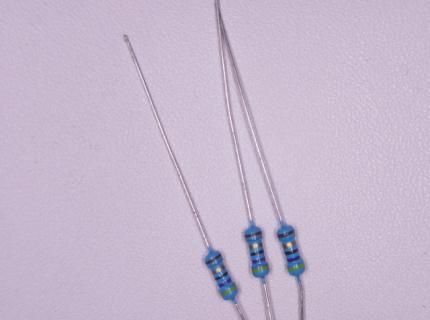Black band: (215, 272, 228, 281), (285, 249, 299, 255), (251, 250, 264, 256)
Brown band: (206, 254, 221, 265), (278, 230, 294, 239), (245, 231, 262, 238)
Gold band: (212, 264, 226, 276), (283, 241, 297, 249), (249, 242, 263, 250)
Violet band: (218, 278, 232, 288), (252, 257, 266, 264), (288, 256, 302, 263)
Yellow band: (221, 285, 238, 297), (288, 263, 305, 272), (252, 266, 270, 274)
